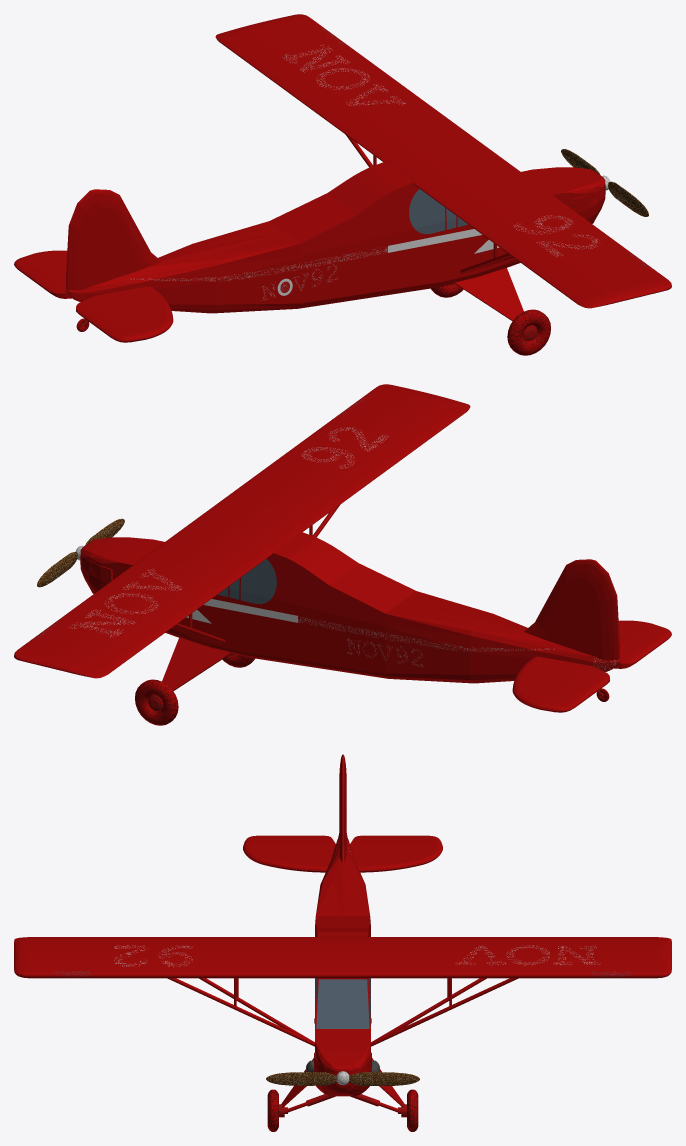
3 views of the same model, one above another, from view 1: azimuth 30°, elevation 25°; view 2: azimuth 150°, elevation 25°; view 3: azimuth 270°, elevation 25° (orthographic). The views are drawn at different scales.
Visible parts, largest first — view 1: mesh1.001_mesh1-geometry, mesh18.001_mesh18-geometry, mesh9.001_mesh9-geometry, mesh5.001_mesh5-geometry; view 2: mesh1.001_mesh1-geometry, mesh19.001_mesh19-geometry, mesh2.001_mesh2-geometry, mesh3.001_mesh3-geometry; view 3: mesh1.001_mesh1-geometry, mesh3.001_mesh3-geometry, mesh5.001_mesh5-geometry, mesh23.001_mesh23-geometry, mesh6.001_mesh6-geometry, mesh9.001_mesh9-geometry, mesh2.001_mesh2-geometry.
Boxes of the visible parts, x1=… form: mesh1.001_mesh1-geometry: x1=14, y1=14, x2=671, y2=342; mesh18.001_mesh18-geometry: x1=454, y1=267, x2=523, y2=320; mesh9.001_mesh9-geometry: x1=507, y1=309, x2=550, y2=355; mesh5.001_mesh5-geometry: x1=608, y1=181, x2=648, y2=216; mesh1.001_mesh1-geometry: x1=14, y1=384, x2=671, y2=712; mesh19.001_mesh19-geometry: x1=162, y1=637, x2=231, y2=690; mesh2.001_mesh2-geometry: x1=135, y1=679, x2=178, y2=725; mesh3.001_mesh3-geometry: x1=37, y1=552, x2=77, y2=587; mesh1.001_mesh1-geometry: x1=14, y1=754, x2=671, y2=1096; mesh3.001_mesh3-geometry: x1=349, y1=1072, x2=419, y2=1085; mesh5.001_mesh5-geometry: x1=266, y1=1072, x2=336, y2=1085; mesh23.001_mesh23-geometry: x1=371, y1=978, x2=518, y2=1046; mesh6.001_mesh6-geometry: x1=167, y1=978, x2=314, y2=1046; mesh9.001_mesh9-geometry: x1=267, y1=1089, x2=287, y2=1131; mesh2.001_mesh2-geometry: x1=398, y1=1089, x2=418, y2=1131.
Size of the model in its own units: 0.6223 by 0.2537 by 0.7405.
